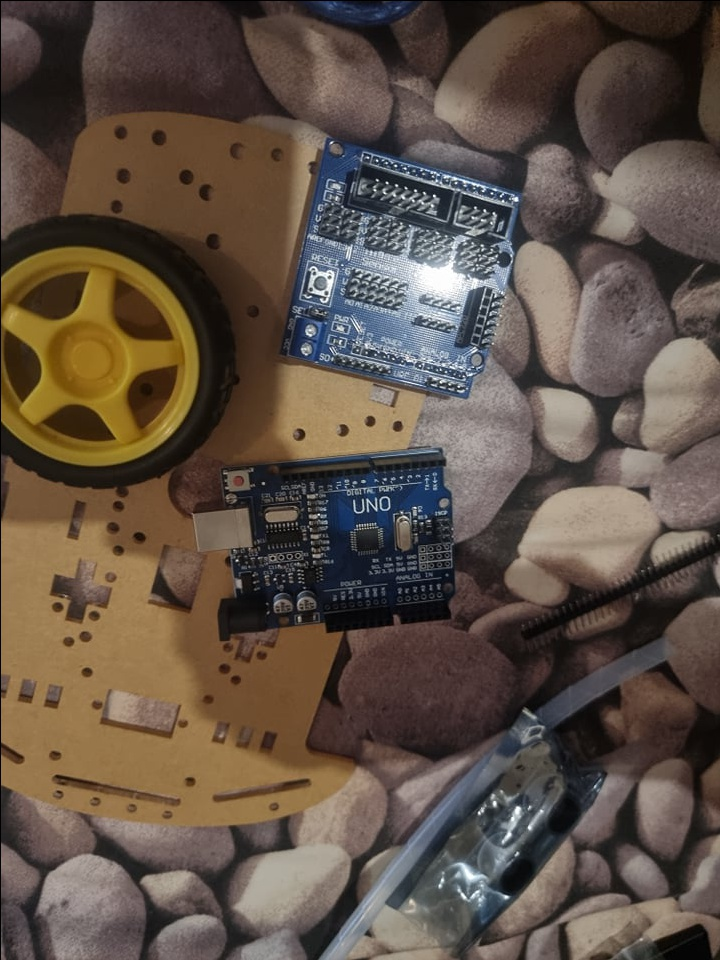5V EXPANSION: (278, 135, 523, 398)
UNO R3: (191, 443, 453, 642)
